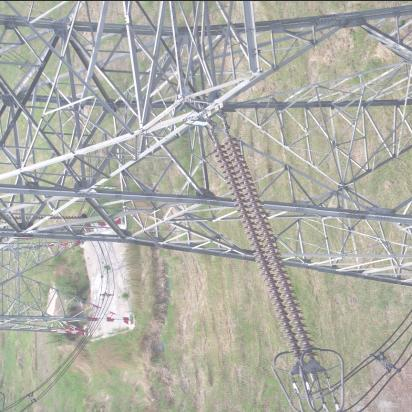insulator: (210, 129, 320, 367)
